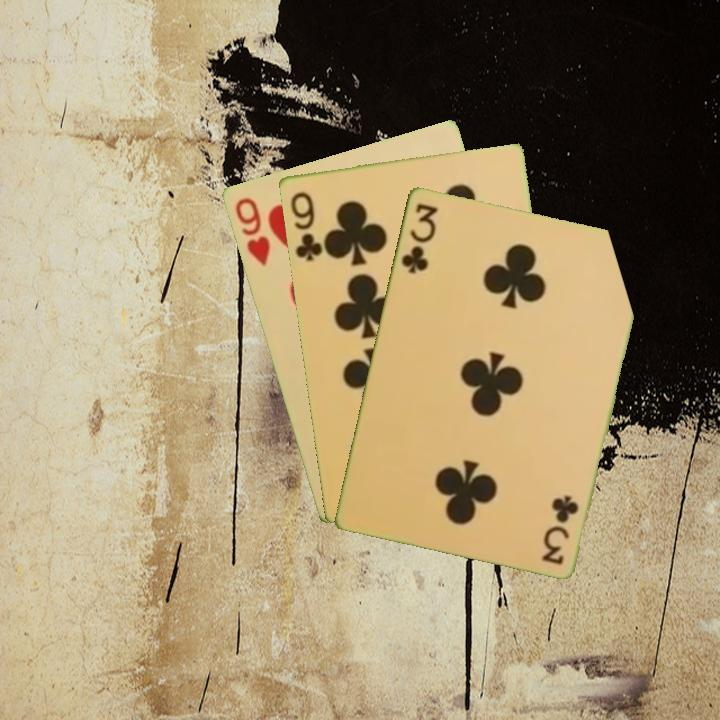3c: (397, 199, 440, 276), (539, 491, 581, 568)
9c: (286, 188, 325, 264)
9h: (231, 193, 273, 269)
